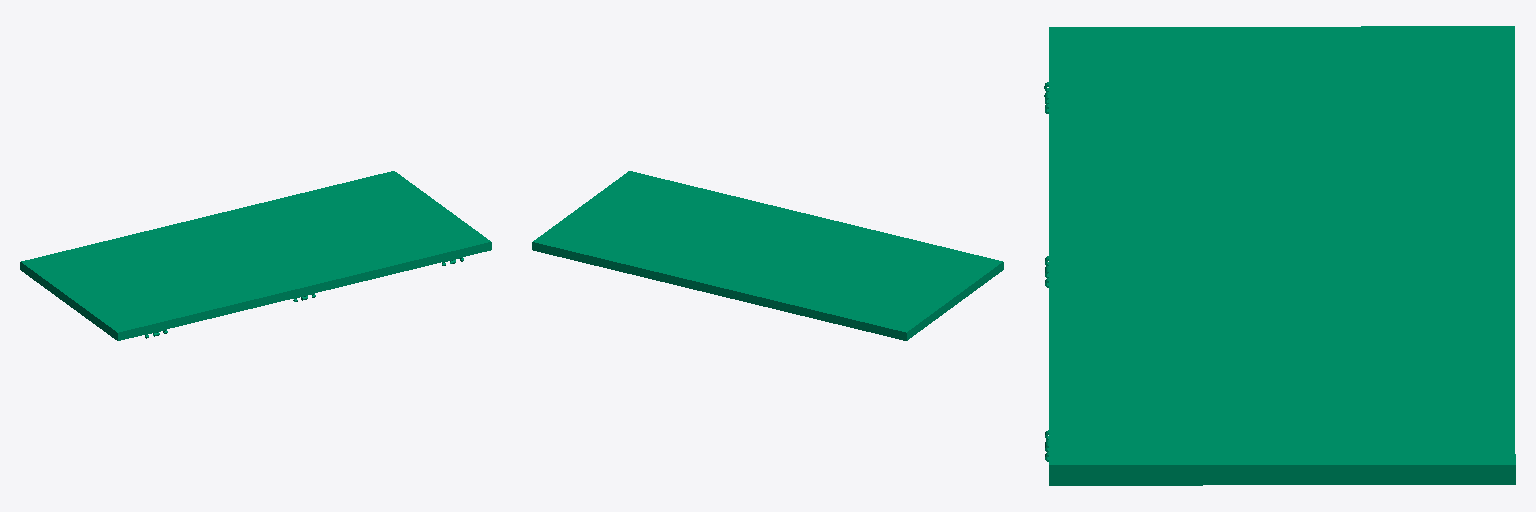
robot.urdf — door_test:
<robot name = 'door_test' xmlns:xacro="http://ros.org/wiki/xacro">
    <!-- <link name = 'world'/> -->
    
    <!-- <joint name = 'world2base' type = 'fixed'>
        <parent link = 'world'/>
        <child link = 'base_link'/>
    </joint> -->

    <link name = 'base_link'/>
        
    <joint name = 'base_joint' type = 'fixed'>
        <parent link = 'base_link'/>
        <origin xyz = '0 0.5 0.0' rpy='0 0 0'/>
        <!-- if move y : the door will slide -->
        <child link = 'door_frame'/>
    </joint>

    <link name = 'door_frame'>
        <visual>
            <geometry>
                <mesh filename = './meshes/frame.dae'/>
            </geometry>
            <origin xyz = '0.5 0 0' rpy = '1.57 0 0'/>
            <!-- <color rgba = '0.5 0.5 0.5 1.0'/> -->
        </visual>
        <!-- <collision name = "door frame_collision">
            <geometry>
                <mesh filename = './meshes/frame.dae'/>
                <origin xyz = '0.5 0 0' rpy = '1.57 0 0'/>
            </geometry>
        </collision> -->
        <collision name="side_1_:hinge_side">
            <geometry>
                <box size = '0.05029 0.06858 2.10820'/>
            </geometry>
            <origin xyz = '0.48 0.02 1.05' rpy = '0 0 0'/>
        </collision>
        <collision name="side_2">
            <geometry>
                <box size = '0.05029 0.06858 2.10820'/>
            </geometry>
            <origin xyz="0.48 1.02 1.05" rpy="0 0 0"/>
        </collision>
        <collision name="top">
            <geometry>
                <box size = '0.05029 0.92964 0.07366'/>
            </geometry>
            <origin xyz="0.48 0.52 2.05820" rpy="0 0 0"/>
        </collision>
        <inertial>
            <origin xyz="0 0 0" rpy="0 0 0"/>
            <mass value="10000.0"/>
            <inertia ixx="0.0" ixy="0.0" ixz="0.0" iyy="0.0" iyz="0.0" izz="0.0"/>
        </inertial>
    </link>

    <joint name = 'door_hinge' type = 'revolute'>
        <axis xyz = '0 0 1' rpy = '0 0 0'/>
        <origin xyz = '0.525 0.06858 0' rpy='0 3.14159 0'/>
        <limit lower = '0' upper = '1.57' effort='100' velocity="100.00"/>
        <dynamics damping="10.0" friction="0.0"/>
        <parent link = 'door_frame'/>
        <child link = 'door'/>
    </joint>

    <link name = 'door'>
        <visual>
            <geometry>
                <mesh filename = './meshes/door.dae'/>
            </geometry>
            <origin xyz = '-0.05 0 0' rpy = '-1.57 0 1.57'/>
            <color rgba = '0.5 0.5 0.5 1.0'/>
        </visual>
        <collision name="door_collision">
            <geometry>
                <mesh filename = './meshes/door.dae'/>
            </geometry>
            <origin xyz = '-0.05 0 0' rpy = '-1.57 0 1.57'/>
        </collision>
        <inertial>
            <origin xyz="0.4569 0.0349 1.016" rpy="0 0 0"/>
            <mass value="41.3256"/>
            <inertia ixx="14.2053" ixy="0.0004" ixz="0.0000" iyy="17.1997" iyz="0.0000" izz="3.0298"/>
        </inertial>
    </link>

    <joint name = 'door_handle' type = 'revolute'>
        <axis xyz = '-1 0 0' rpy = '0 0 0 '/>
        <parent link = 'door'/>
        <origin xyz = '0.035 0.75 -1.0'/>
        <limit lower = '0' upper = '0.5236' effort='100' velocity="1000.00"/>
        <dynamics damping="0.0" friction="0.0"/>
        <child link = 'door_handles'/>
    </joint>

    <link name = 'door_handles'>
        <visual>
            <geometry>
                <mesh filename = './meshes/door_handle.dae'/>
            </geometry>
            <origin xyz = '0 0 0' rpy = '0 3.141592 1.57'/>
            <color rgba = '0.55 0.5 0.5 1.0'/>
        </visual>
        <visual>
            <geometry>
                <mesh filename = './meshes/door_handle.dae'/>
            </geometry>
            <origin xyz = '0.04 0 0' rpy = '0 0 -1.57'/>
             <color rgba = '0.5 0.5 0.5 1.0'/>
        </visual>
        <collision name="door_handles_collision">
            <geometry>
                <mesh filename="./meshes/door_handle.dae"/>
            </geometry>
            <origin xyz = '0 0 0' rpy = '0 3.141592 1.57'/>
        </collision>
        <collision name="door_handles_collision">
            <geometry>
                <mesh filename="./meshes/door_handle.dae"/>
            </geometry>
            <origin xyz = '0.045 0 0' rpy = '0 0 -1.57'/>
        </collision>
        <inertial>
            <origin xyz="0.0 0.0 0.0" rpy="3.14159 0 1.57"/>
            <mass value="1.0"/>
            <!-- <inertia ixx="14.2053" ixy="0.0004" ixz="0.0000" iyy="17.1997" iyz="0.0000" izz="3.0298"/> -->
        </inertial>
    </link>
    
    <joint name = 'handle2latch' type = 'fixed'>
        <parent link = 'door_handles'/>
        <child link = 'door_latch'/>
    </joint>

    <link name='door_latch'>
        <collision>
            <geometry>
                <box size='0.001 0.14 0.01'/>
            </geometry>
            <origin xyz = '0.043 0.1 0' rpy = '0 0 0'/>
        </collision>
    </link>
    <!-- <gazebo reference="world">
        <material>Gazebo/Red</material>
    </gazebo> -->

</robot>

--- Render facts (derived) ---
Views: 3 orthographic renders of the robot side by side, from view 1: azimuth 30°, elevation 25°; view 2: azimuth 150°, elevation 25°; view 3: azimuth 270°, elevation 25°.
Model door_test with 5 links and 4 joints (2 revolute, 2 fixed), rooted at base_link, posed every joint at zero.
Links seen in each view (by area): view 1: door; view 2: door; view 3: door.
Link boxes in pixels (x1=…): door: x1=20, y1=171, x2=491, y2=340; door: x1=532, y1=171, x2=1003, y2=340; door: x1=1044, y1=26, x2=1515, y2=485.
Size in the robot's own frame: 2.03 by 0.9242 by 0.0664 metres.
Meshes: 3 distinct files referenced, 1 mesh visuals loaded (1 Collada DAE); not drawn: 3 (reference not matched to a file when rendering).